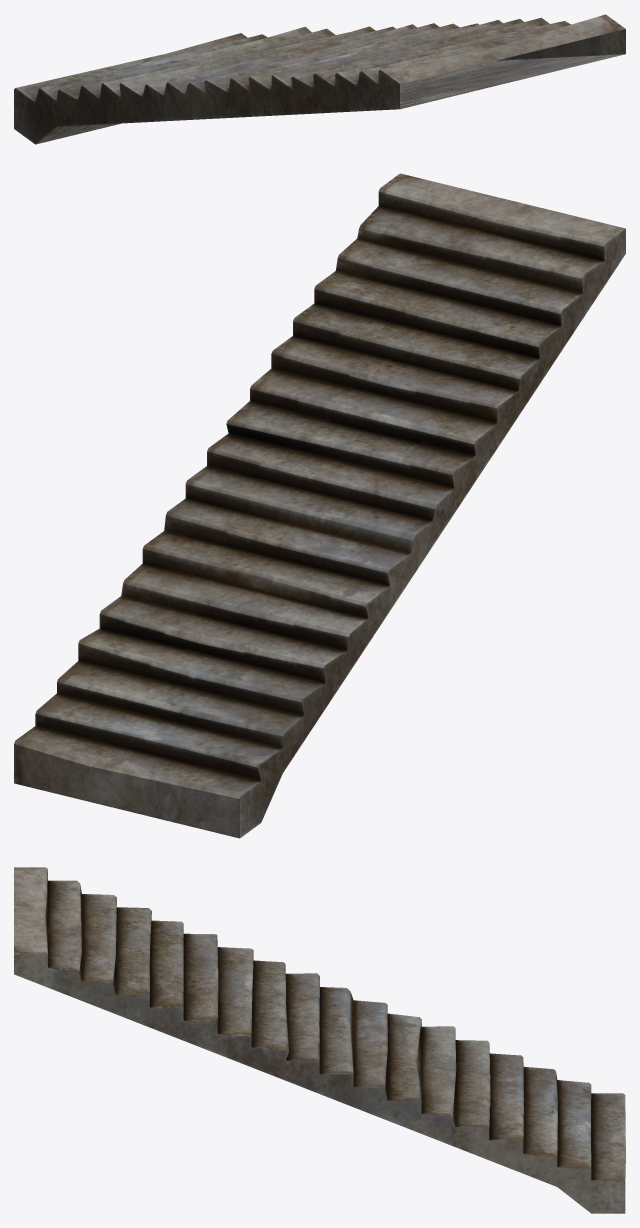
Rendered from LobbyStairs.FBX.
3 views of the same model, one above another, from view 1: azimuth 30°, elevation 25°; view 2: azimuth 150°, elevation 25°; view 3: azimuth 270°, elevation 25° (orthographic). The views are drawn at different scales.
Parts seen in each view (by area): view 1: LobbyStairs; view 2: LobbyStairs; view 3: LobbyStairs.
Boxes of the visible parts, bbox=[...] form: LobbyStairs: bbox=[14, 14, 625, 144]; LobbyStairs: bbox=[14, 173, 625, 838]; LobbyStairs: bbox=[14, 867, 625, 1213].
Size of the model in its own units: 202 by 277 by 593.
